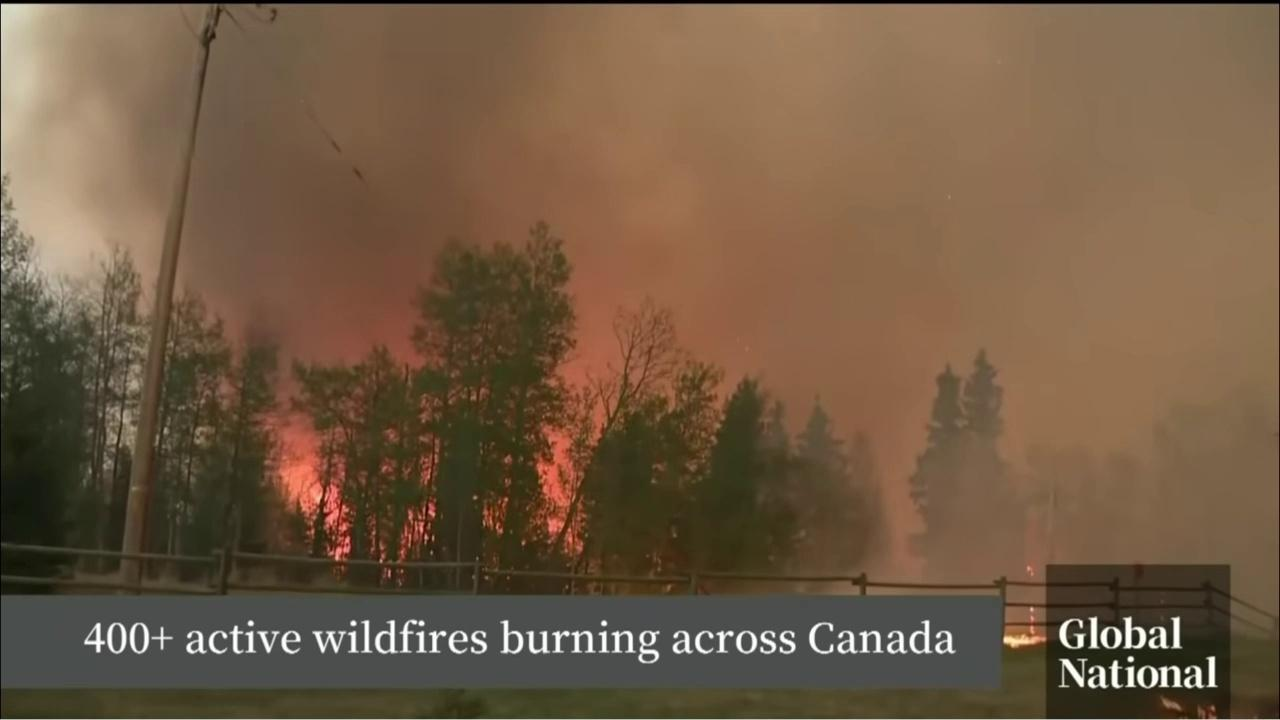fire: (1000, 603, 1047, 648), (311, 484, 326, 511), (1023, 562, 1036, 583)
smoke: (43, 5, 1277, 637)
